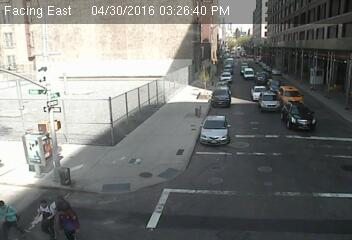neg: (270, 134, 306, 183), (209, 127, 237, 165), (239, 58, 265, 93), (186, 107, 210, 140), (65, 100, 88, 131), (146, 134, 168, 164), (117, 97, 138, 124), (254, 108, 274, 135), (27, 110, 46, 135), (174, 44, 192, 68), (44, 80, 61, 103), (25, 144, 42, 167), (64, 162, 81, 184), (228, 191, 244, 213)
pos: (56, 198, 84, 235), (29, 196, 56, 232)
